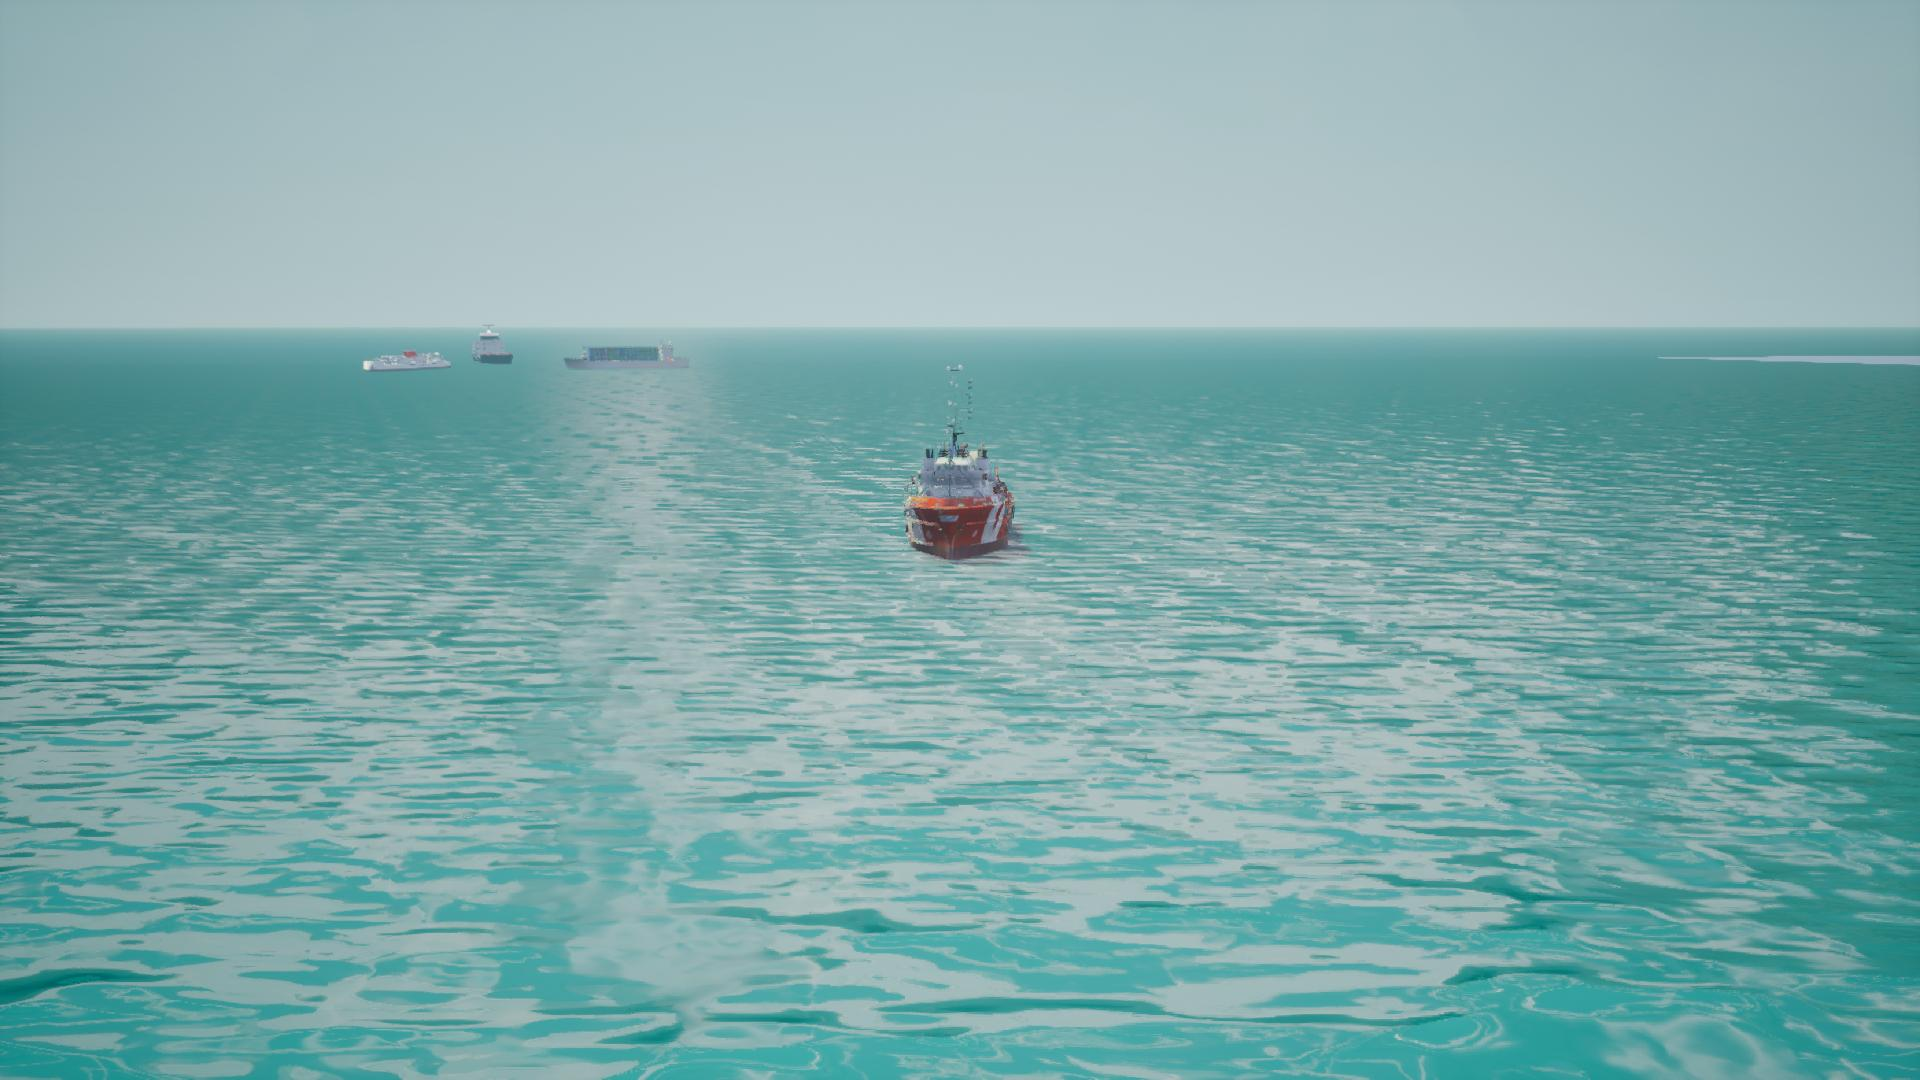Tug Boat: (903, 365, 1015, 564)
